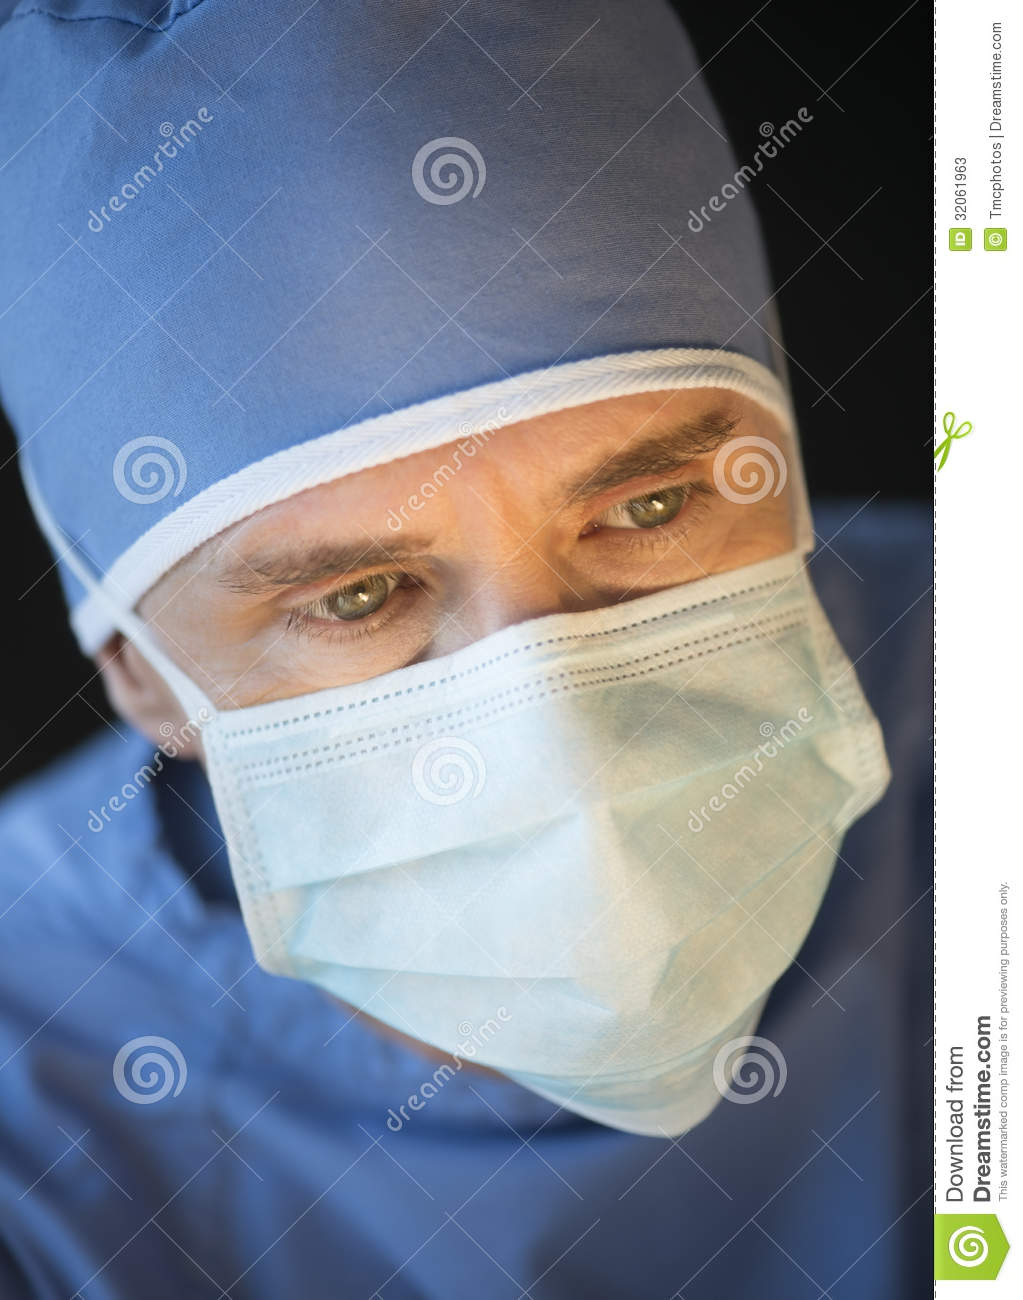mask: (209, 601, 893, 1115)
